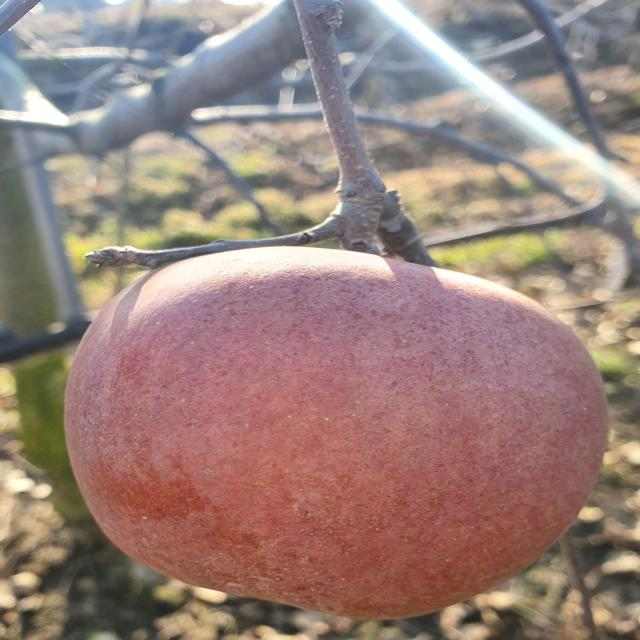fresh: (55, 235, 619, 627)
